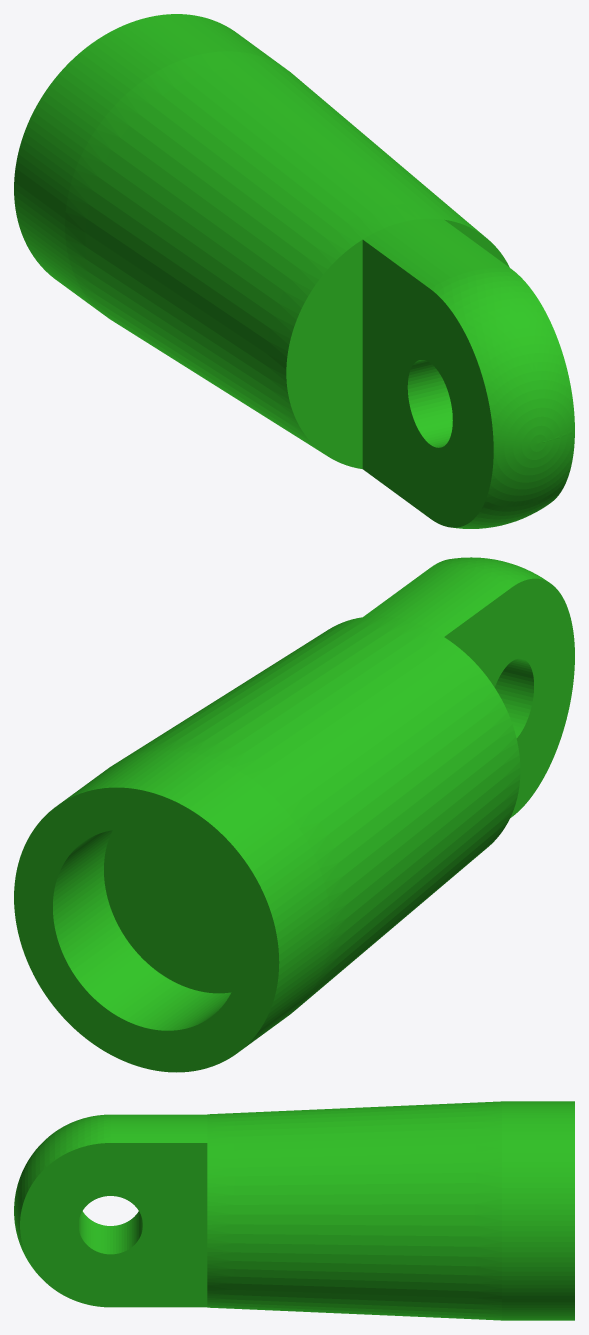
3 views of the same model, one above another, from view 1: azimuth 30°, elevation 25°; view 2: azimuth 150°, elevation 25°; view 3: azimuth 270°, elevation 25° (orthographic). The views are drawn at different scales.
Parts seen in each view (by area): view 1: node; view 2: node; view 3: node.
Part boxes in pixels (x1,y1,x2,y2): node: (14, 14, 574, 528); node: (14, 557, 574, 1072); node: (14, 1101, 574, 1320).
Bounding box in the file's own units: 0.0744 × 0.0744 × 0.1905.
